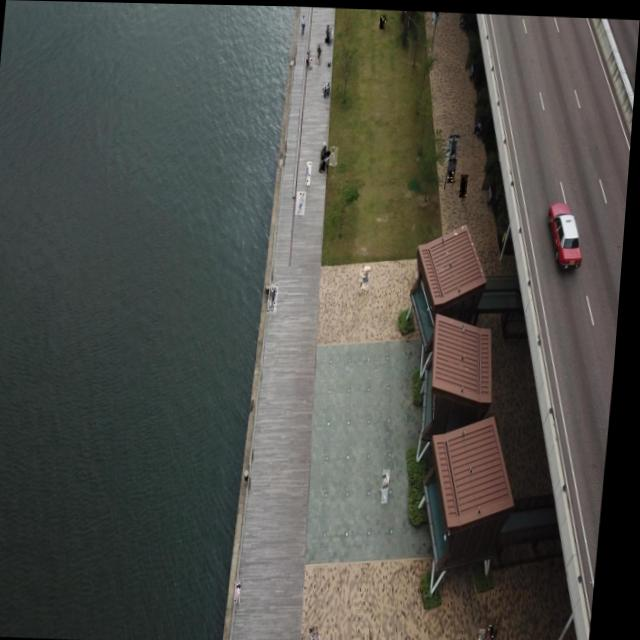Person: (271, 282, 283, 312), (493, 620, 507, 640), (298, 189, 308, 214), (321, 149, 332, 171), (388, 467, 397, 490), (243, 579, 251, 603), (450, 157, 458, 181), (462, 172, 470, 195), (316, 41, 324, 64), (331, 144, 340, 164), (308, 160, 315, 184), (363, 266, 370, 290), (367, 264, 374, 288), (487, 626, 498, 640), (318, 623, 327, 640), (306, 48, 313, 69), (325, 23, 333, 41), (388, 481, 395, 501), (300, 11, 306, 33), (323, 80, 331, 94), (379, 13, 386, 27), (322, 632, 331, 640)
